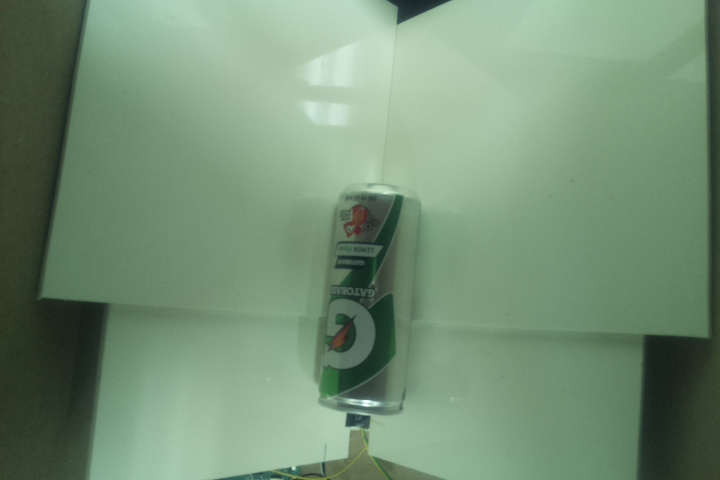can: (314, 179, 422, 418)
